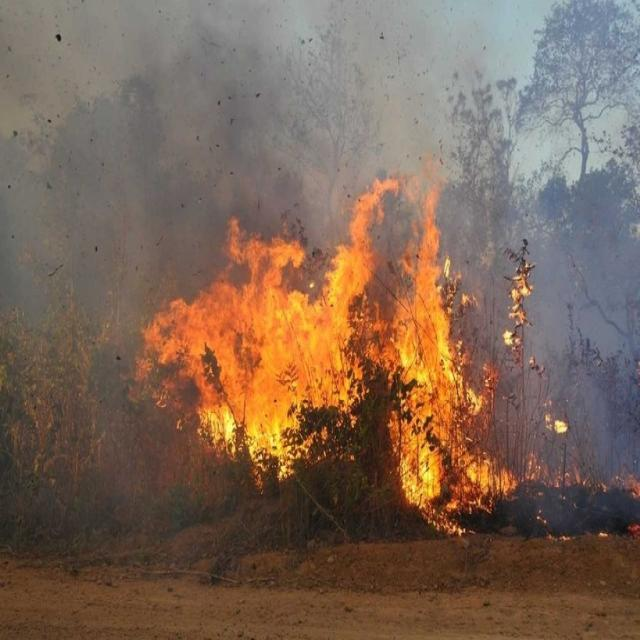Fire: (220, 266, 362, 464), (394, 263, 474, 532)
Smoke: (106, 9, 446, 152), (16, 169, 182, 283)
